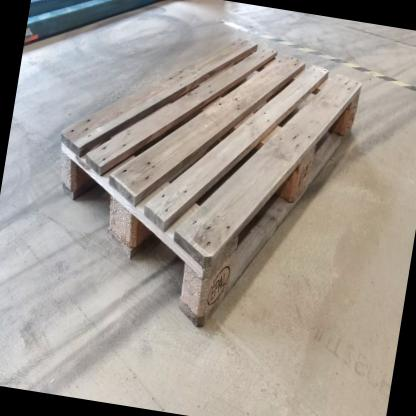BoxFace: (58, 31, 367, 335)
